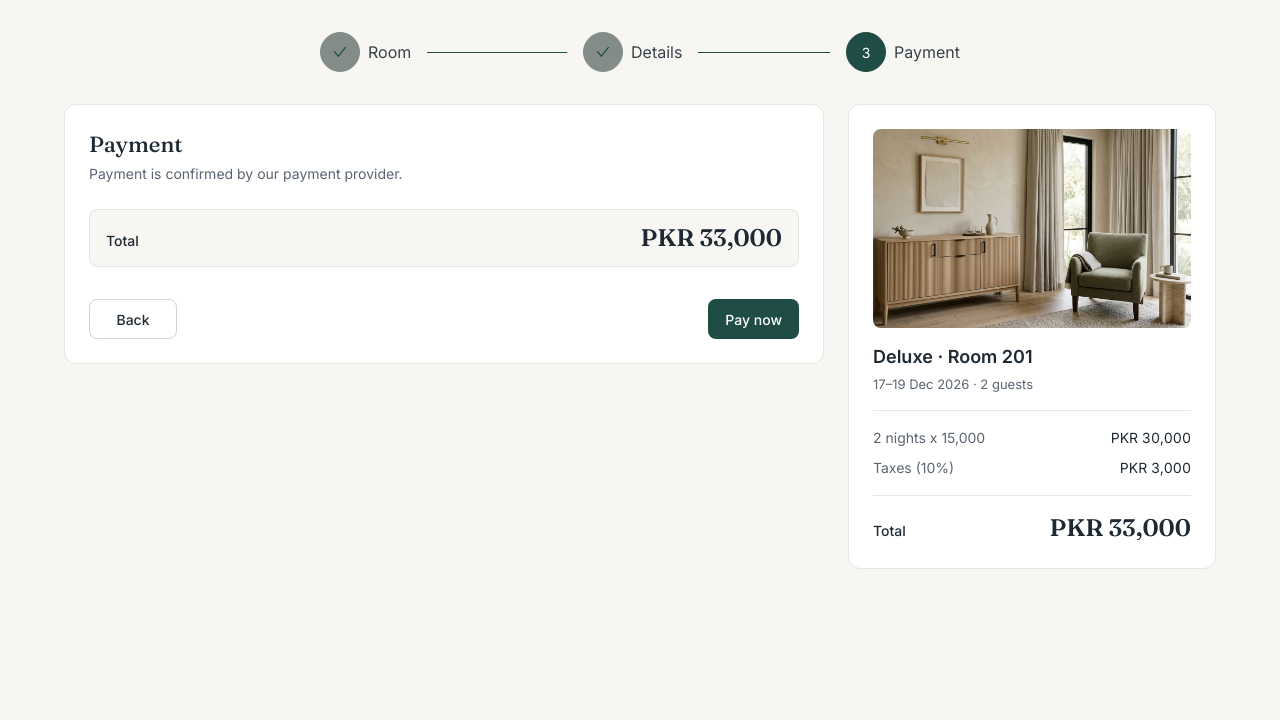
it: BookingFlowView › hides dev buttons when disabled and shows 60s waiting alert when confirmation delays
The width and height of the screenshot is (1280, 720).
Click the button "Pay now".
click(754, 319)  # box [708,299,799,339]
Wait 60000 ms
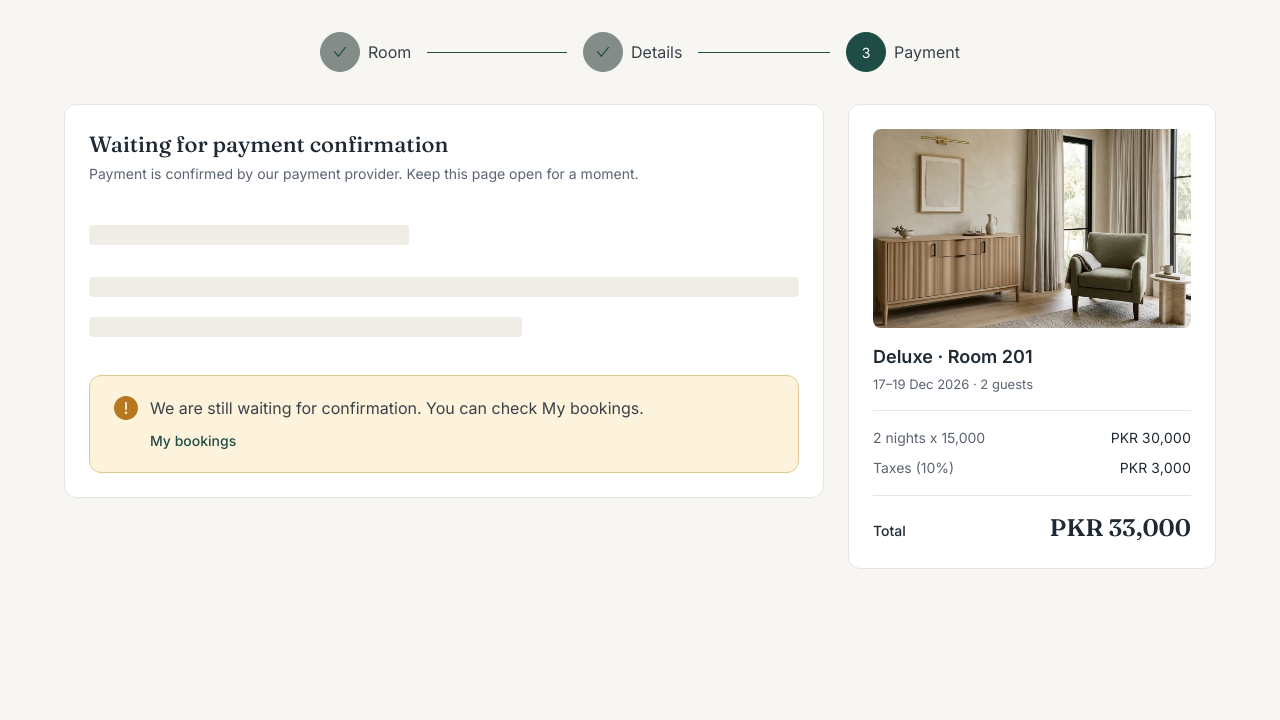
Now the heading "Waiting for payment confirmation" is shown, box [89,130,448,158]
Now the text "We are still waiting for confirmation. You can check My bookings." is shown, box [150,398,644,418]
